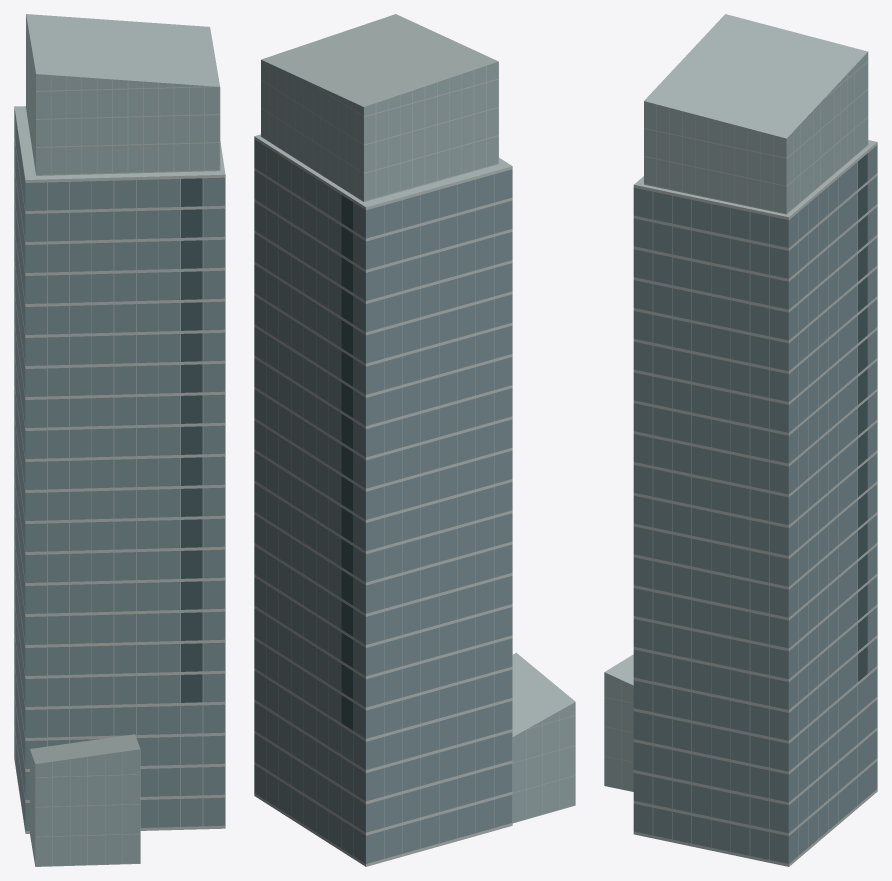
File: tour-saint-gobain-far.glb
The picture shows the model from 3 angles, left to right: view 1: azimuth 30°, elevation 25°; view 2: azimuth 150°, elevation 25°; view 3: azimuth 270°, elevation 25°; orthographic projection.
Parts seen in each view (by area): view 1: tour-saint-gobain-0-glass, tour-saint-gobain-0-glassPale, tour-saint-gobain-0-frame, tour-saint-gobain-0-roof, tour-saint-gobain-0-garden; view 2: tour-saint-gobain-0-glass, tour-saint-gobain-0-frame, tour-saint-gobain-0-glassPale, tour-saint-gobain-0-roof, tour-saint-gobain-0-garden; view 3: tour-saint-gobain-0-glass, tour-saint-gobain-0-frame, tour-saint-gobain-0-glassPale, tour-saint-gobain-0-roof, tour-saint-gobain-0-garden.
Part boxes in pixels (x1,y1,x2,y2): tour-saint-gobain-0-glass: [14, 109, 224, 830]; tour-saint-gobain-0-glassPale: [26, 15, 219, 866]; tour-saint-gobain-0-frame: [14, 24, 225, 866]; tour-saint-gobain-0-roof: [14, 14, 225, 763]; tour-saint-gobain-0-garden: [181, 178, 202, 702]; tour-saint-gobain-0-glass: [254, 139, 512, 863]; tour-saint-gobain-0-frame: [254, 61, 575, 866]; tour-saint-gobain-0-glassPale: [261, 60, 575, 822]; tour-saint-gobain-0-roof: [254, 14, 575, 736]; tour-saint-gobain-0-garden: [341, 195, 353, 730]; tour-saint-gobain-0-glass: [633, 145, 877, 863]; tour-saint-gobain-0-frame: [604, 52, 877, 866]; tour-saint-gobain-0-glassPale: [604, 52, 867, 791]; tour-saint-gobain-0-roof: [604, 14, 876, 685]; tour-saint-gobain-0-garden: [858, 153, 867, 681].
Size of the model in its own units: 61.38 by 178 by 58.7.
